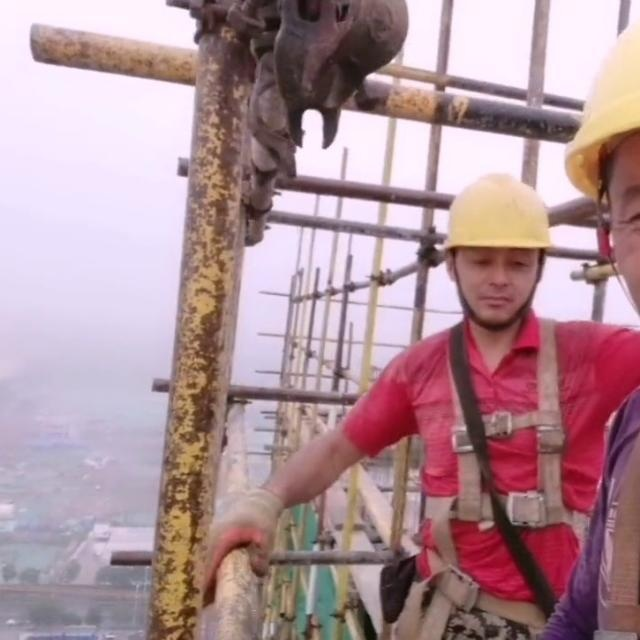Arnes_seguridad: (409, 314, 607, 567)
